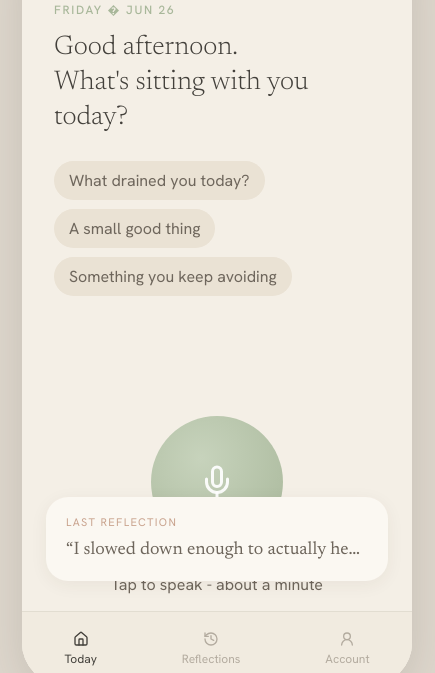
Echo app shell › loads signed-in reflection history and opens a past Afterglow detail
(page scrolled)
Click the button "Reflections" at (211, 649), box left=176, top=630, right=246, bottom=668
(page scrolled)
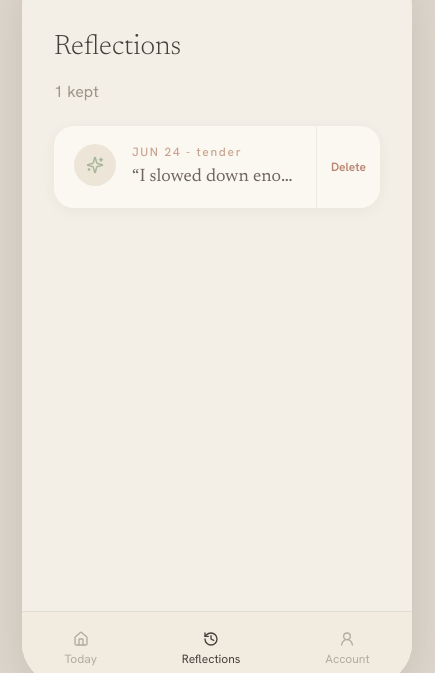
Result: the text "1 kept" is shown at left=54, top=81, right=99, bottom=102
Result: the text "JUN 24 - tender" is shown at left=132, top=144, right=242, bottom=160
Click the button with aria-label "open reflection from jun 24" at (185, 167), box left=54, top=126, right=316, bottom=208
(page scrolled)
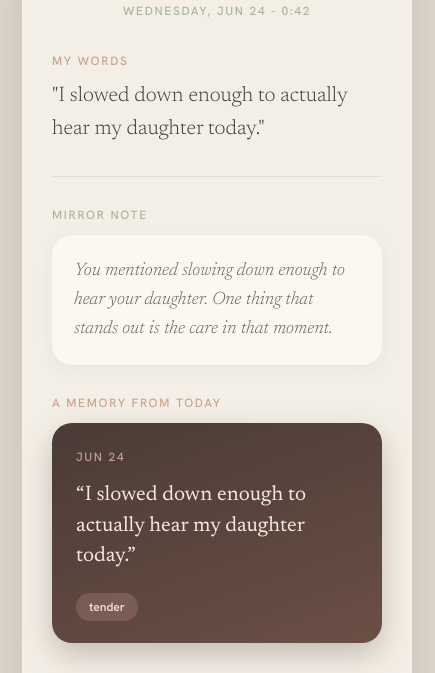
Result: the text "MY WORDS" is shown at left=52, top=53, right=128, bottom=69
Result: the text "You mentioned slowing down enough" is shown at left=74, top=262, right=345, bottom=338
